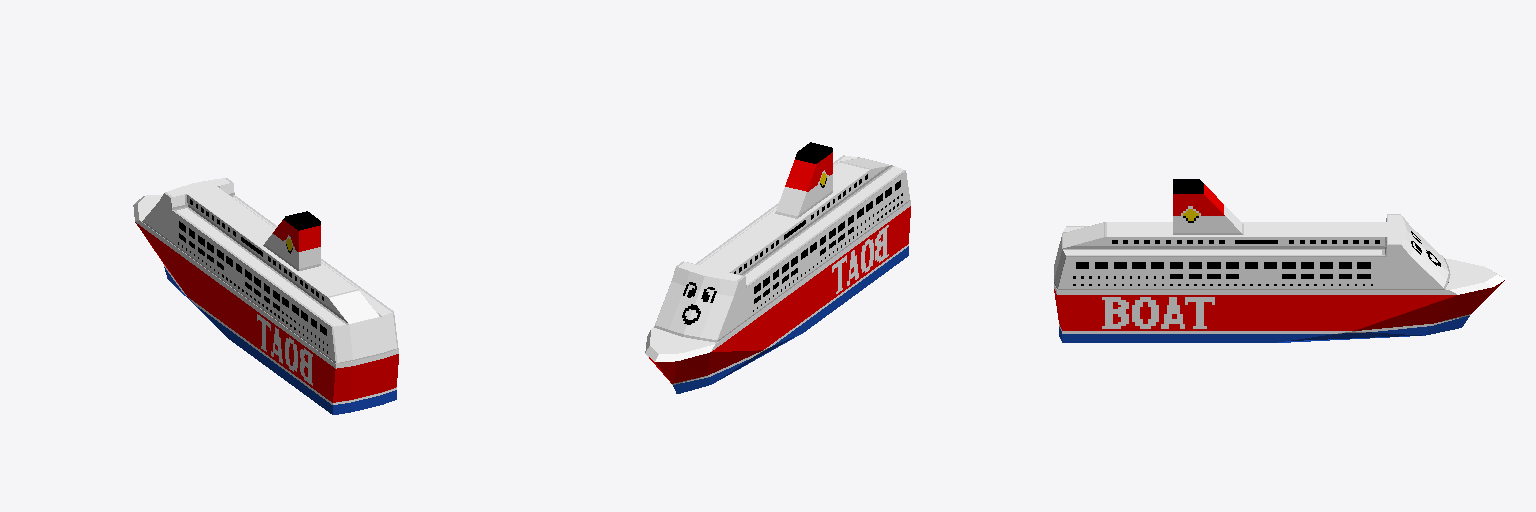
3 renders of one model, left to right at view 1: azimuth 30°, elevation 25°; view 2: azimuth 150°, elevation 25°; view 3: azimuth 270°, elevation 25°, orthographic.
Parts seen in each view (by area): view 1: cuboid; view 2: cuboid; view 3: cuboid.
Part boxes in pixels (x1,y1,x2,y2): cuboid: (133, 178, 398, 414); cuboid: (645, 142, 910, 393); cuboid: (1054, 179, 1505, 342).
Bounding box in the file's own units: 1.72 × 3.7 × 10.56.
1 materials, 1 textured.